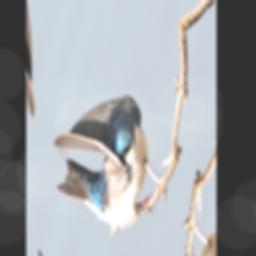Swallow: (44, 34, 173, 256)
